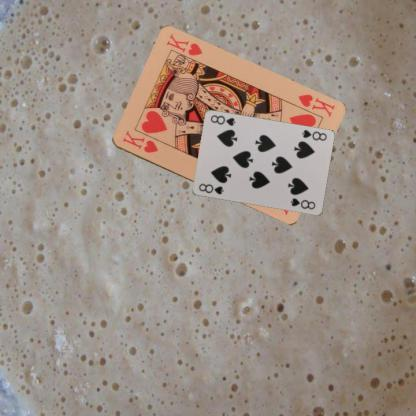8s: (298, 127, 328, 142), (196, 181, 224, 196)
Kh: (294, 91, 336, 119), (119, 128, 159, 154)
